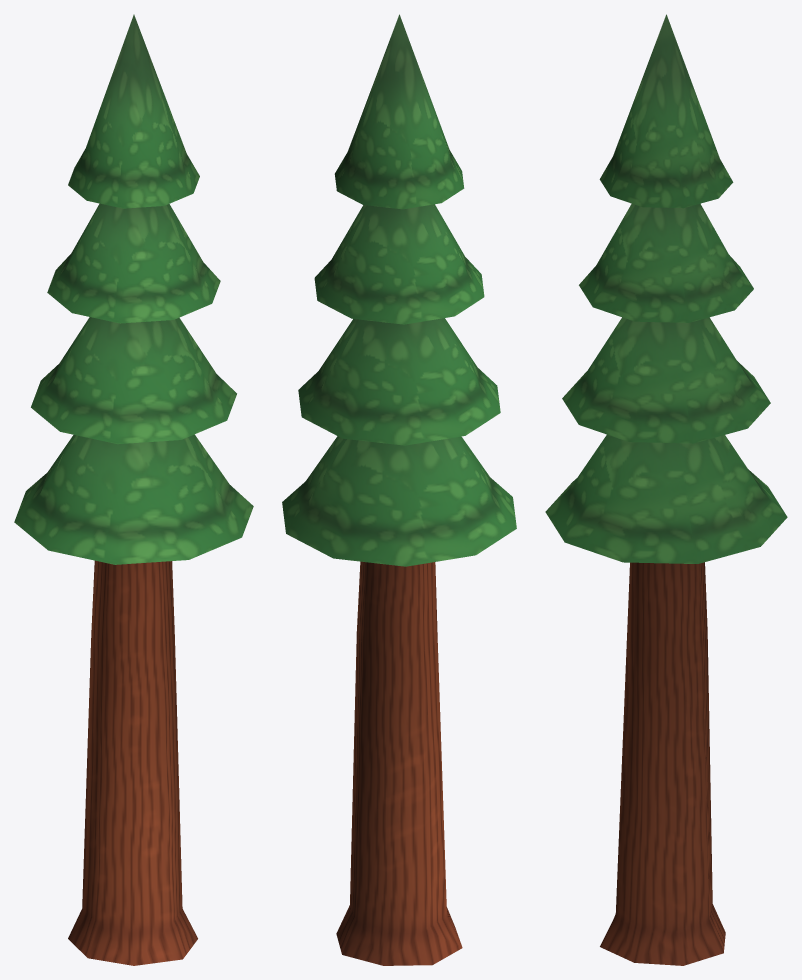
The model's file is redwood_tree.obj.
The picture shows the model from 3 angles, left to right: view 1: azimuth 30°, elevation 25°; view 2: azimuth 150°, elevation 25°; view 3: azimuth 270°, elevation 25°; orthographic projection.
Visible parts, largest first — view 1: RedwoodTree; view 2: RedwoodTree; view 3: RedwoodTree.
Part boxes in pixels (x1,y1,x2,y2): RedwoodTree: (14,14,253,965); RedwoodTree: (282,14,516,965); RedwoodTree: (545,14,787,965).
Bounding box in the file's own units: 2.8 × 12.2 × 2.9.
1 material, 1 textured.
